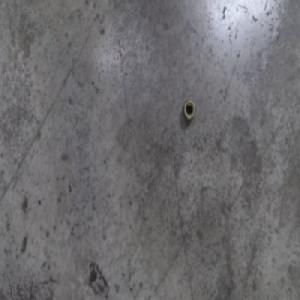Nut: (183, 98, 196, 121)
